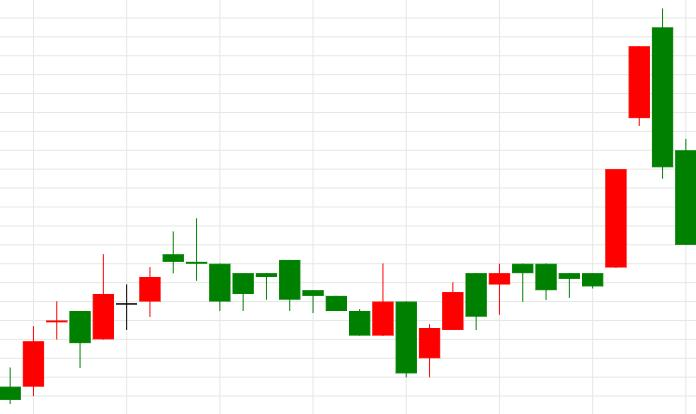bearish_engulfing_fall: (396, 8, 674, 378)
bullish_engulfing_rise: (163, 217, 394, 336)
